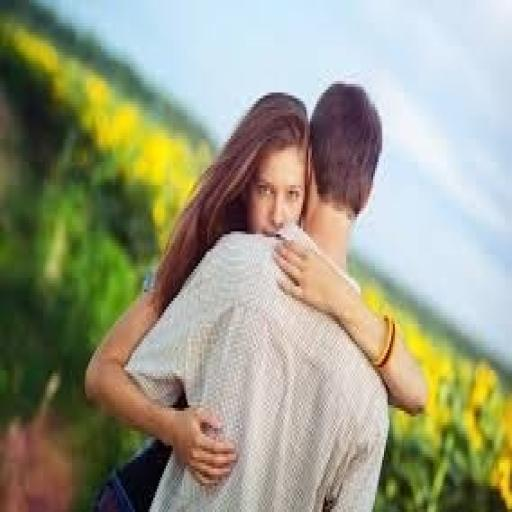hugging: (83, 78, 429, 509)
